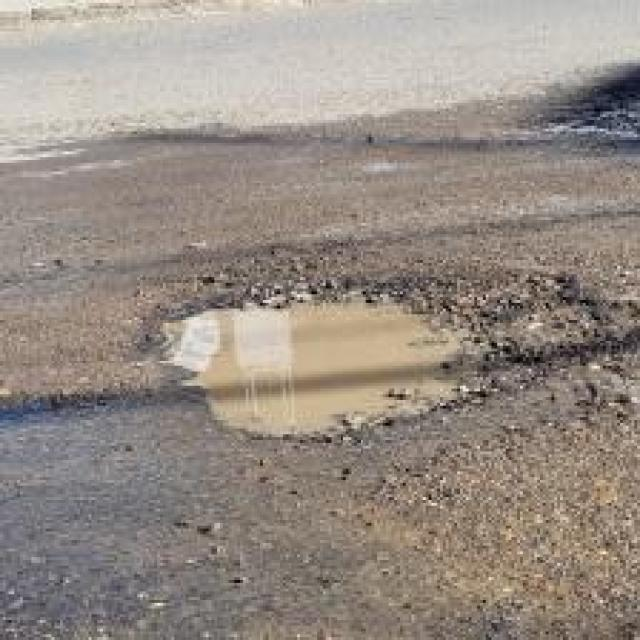BACHE: (165, 290, 459, 434), (539, 64, 639, 143)
